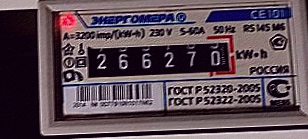0: (208, 49, 221, 67)
2: (93, 52, 107, 70), (162, 50, 174, 68)
6: (116, 52, 129, 70), (139, 52, 152, 70)
7: (185, 49, 197, 67)
screen: (76, 31, 241, 87)
